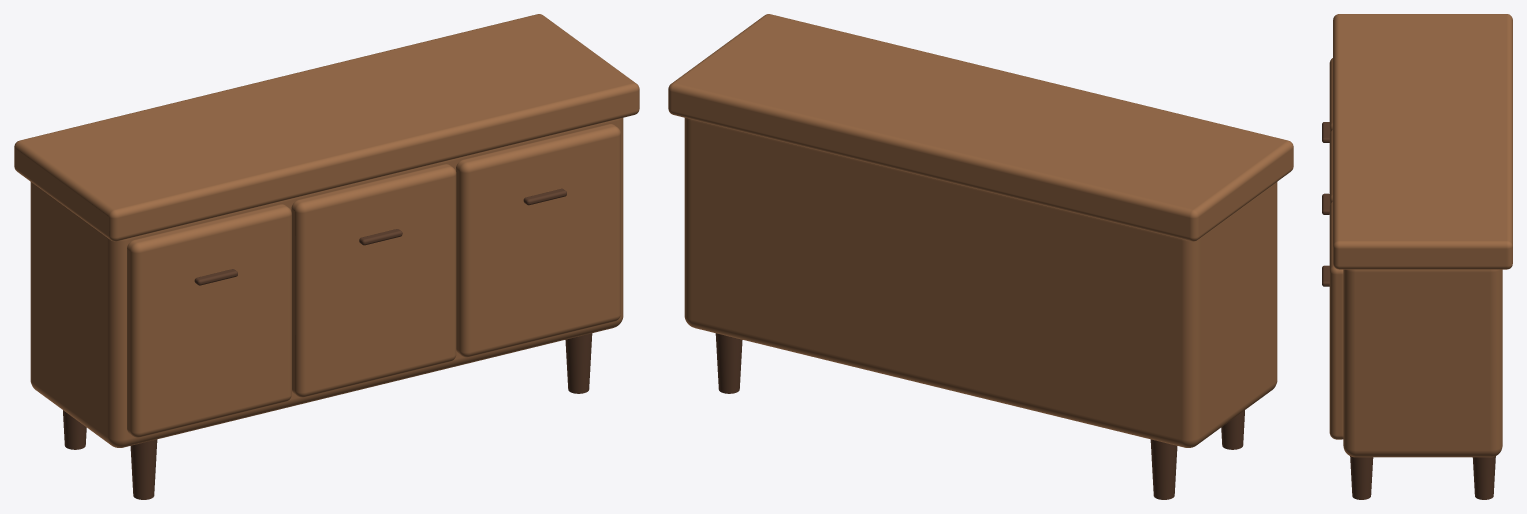
File: pera-console.v1.render.glb
3 renders of one model, left to right at view 1: azimuth 30°, elevation 25°; view 2: azimuth 150°, elevation 25°; view 3: azimuth 270°, elevation 25°, orthographic. The views are drawn at different scales.
Bounding box in the file's own units: 1.34 × 0.738 × 0.467.
